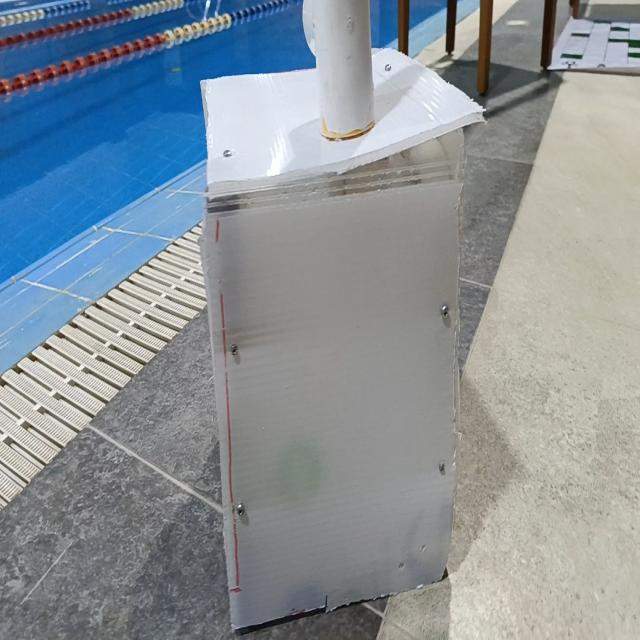Cube: (197, 45, 485, 632), (200, 46, 487, 190)
